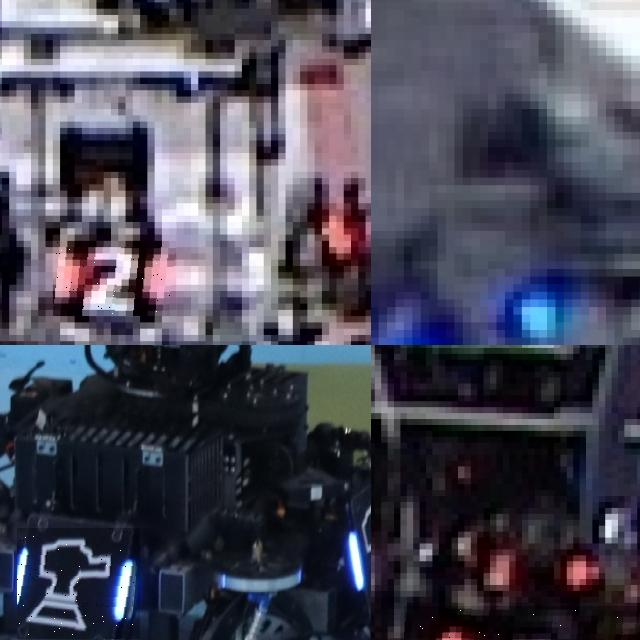Bs: (17, 528, 140, 639), (345, 490, 371, 603)
R1: (403, 606, 640, 640)
R2: (53, 241, 176, 316)
